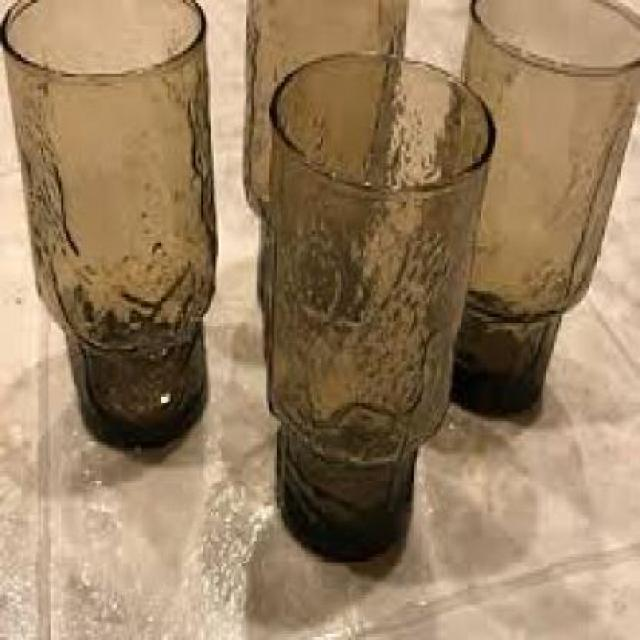kaca: (266, 48, 496, 560), (0, 0, 214, 455), (446, 0, 639, 414), (242, 0, 403, 311)
